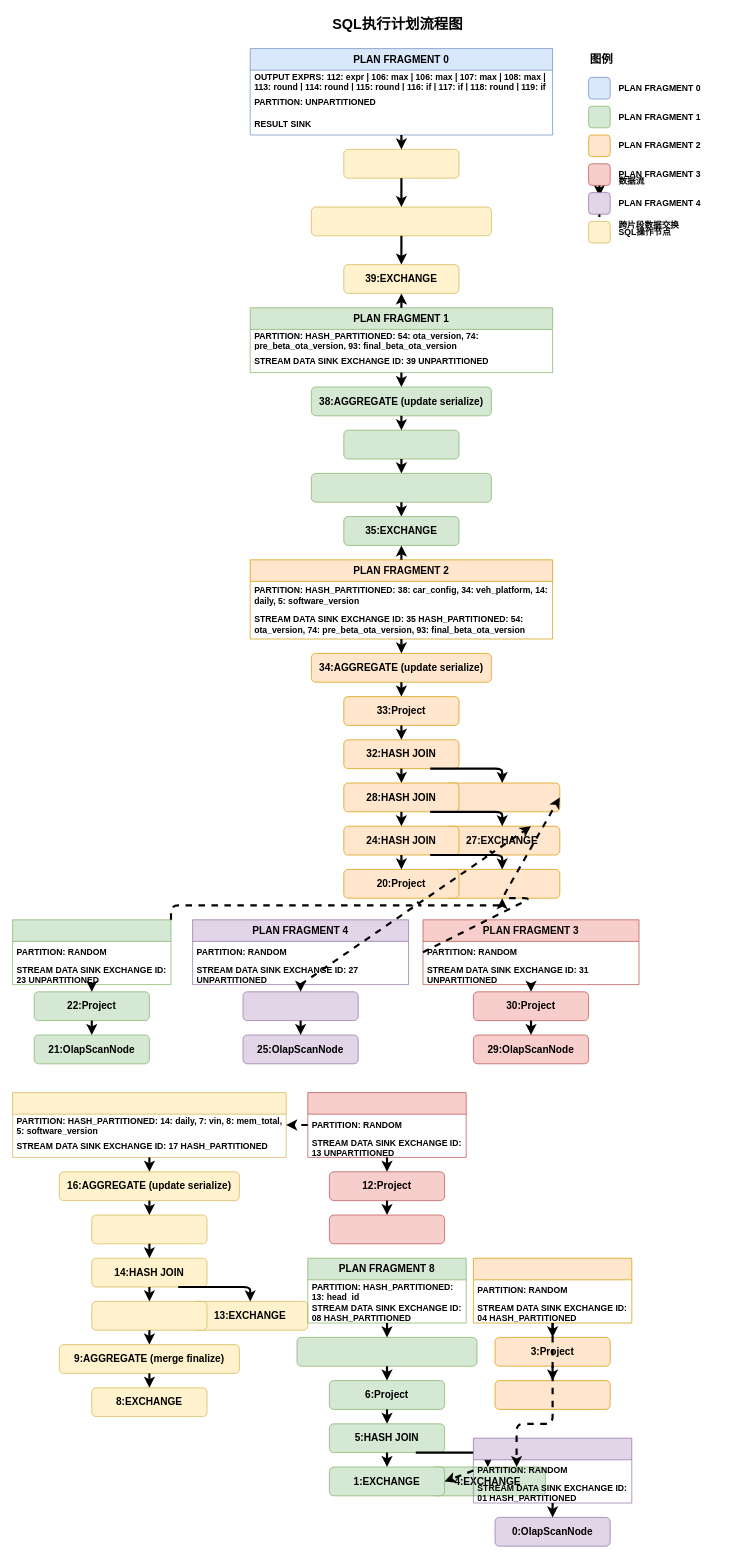
The diagram is 731 pixels wide and 1559 high, and some of its shapes have lost their labels. The box of each missing label's shape, as (x1, y1, x2, y2) in pixels:
10:Project: (91, 1301, 207, 1330)
11:OlapScanNode: (329, 1214, 445, 1244)
15:Project: (91, 1214, 207, 1244)
23:EXCHANGE: (444, 869, 560, 898)
26:Project: (242, 991, 358, 1021)
2:OlapScanNode: (494, 1380, 610, 1409)
31:EXCHANGE: (444, 782, 560, 812)
36:AGGREGATE (merge finalize): (311, 473, 491, 502)
37:Project: (343, 429, 459, 459)
40:AGGREGATE (merge finalize): (311, 206, 491, 236)
41:Project: (343, 149, 459, 178)
7:AGGREGATE (update serialize): (296, 1337, 477, 1366)
PLAN FRAGMENT 10: (473, 1437, 632, 1503)
PLAN FRAGMENT 5: (12, 919, 171, 985)
PLAN FRAGMENT 6: (12, 1092, 286, 1157)
PLAN FRAGMENT 7: (307, 1092, 466, 1157)
PLAN FRAGMENT 9: (473, 1257, 632, 1323)
